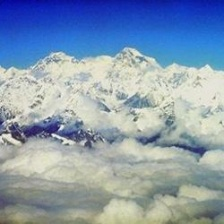neutral: (2, 9, 222, 222)
